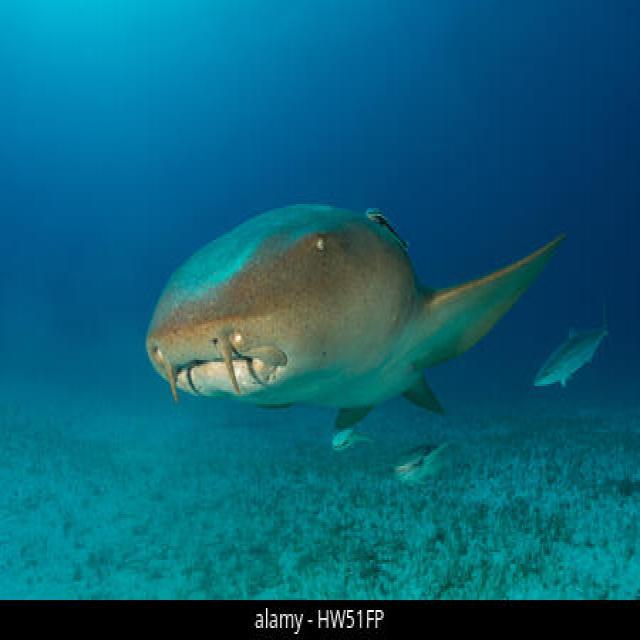Shark: (120, 116, 594, 482)
